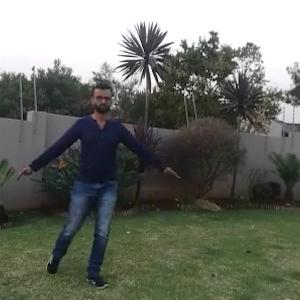land: (37, 92, 161, 244)
